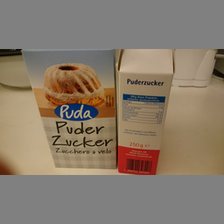tomato_sauce: (21, 49, 118, 169), (115, 50, 174, 174)
